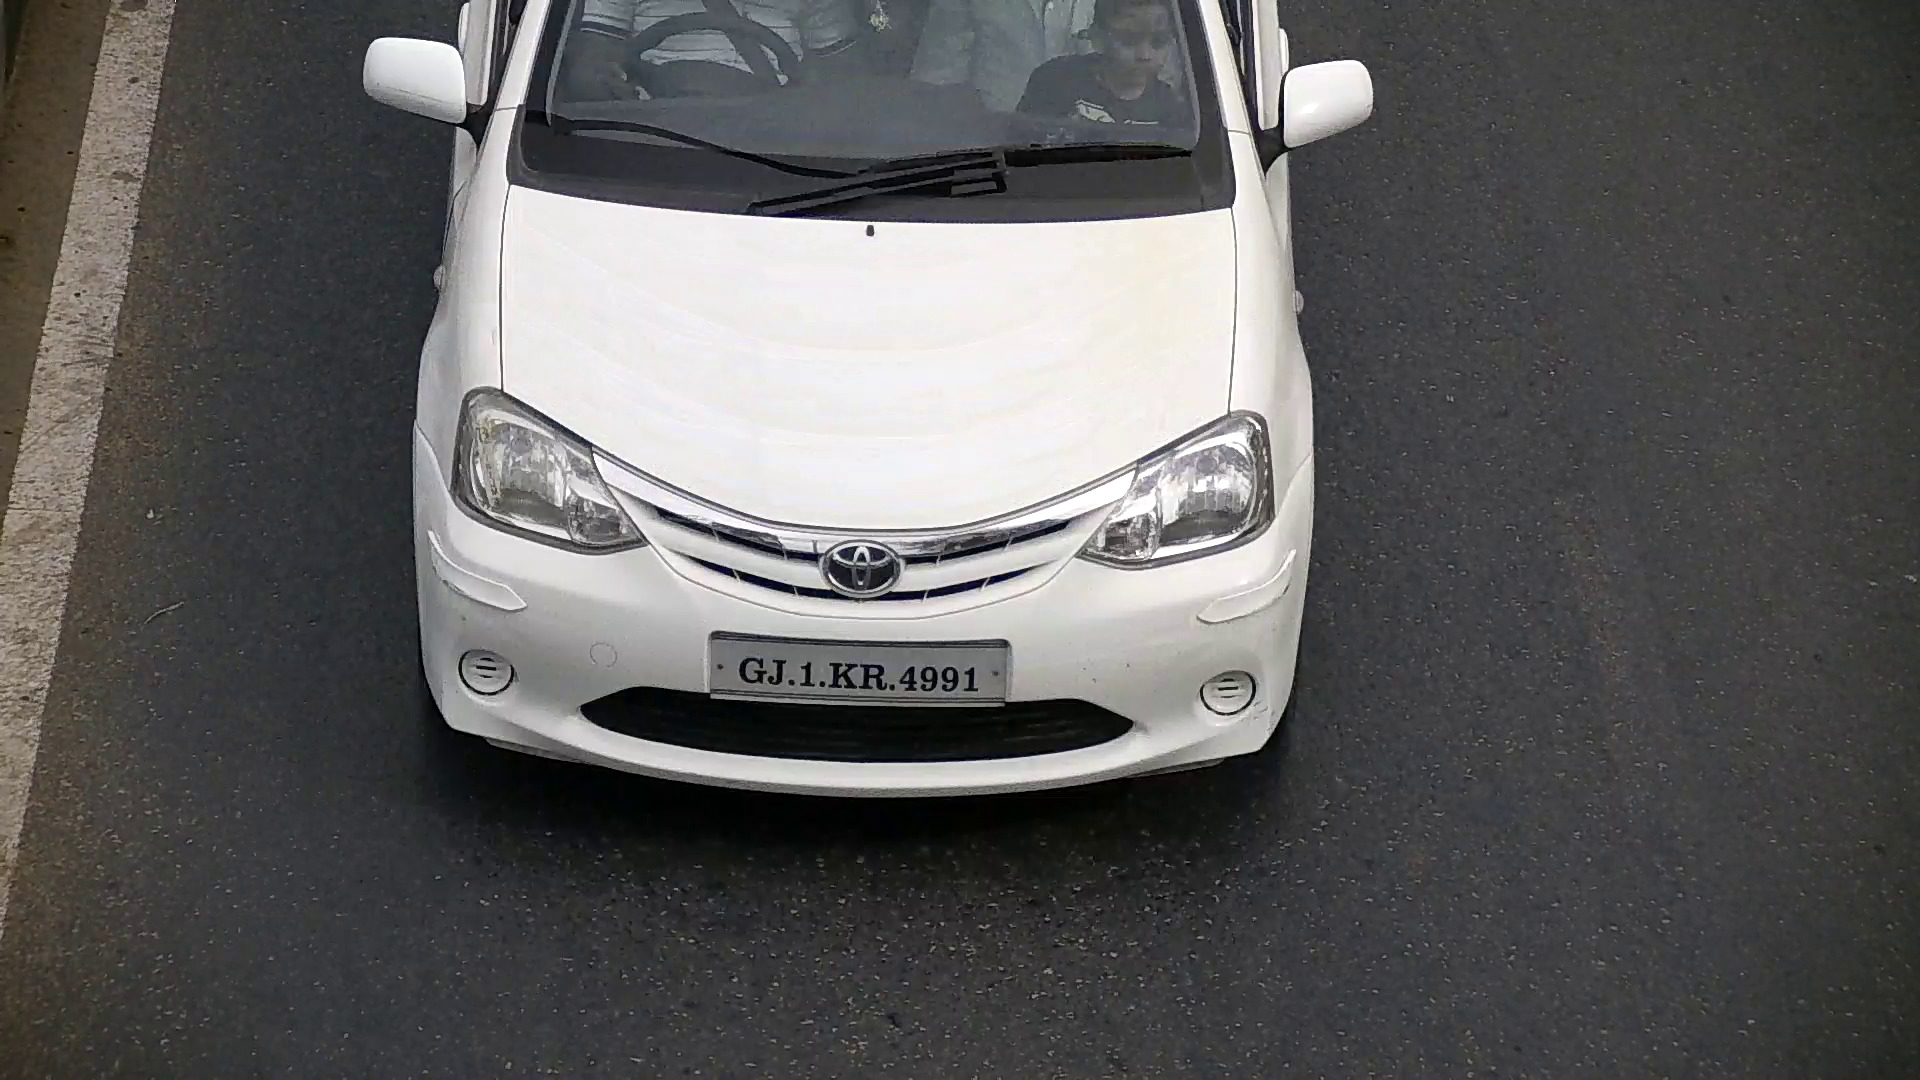numberplate: (708, 629, 1011, 704)
